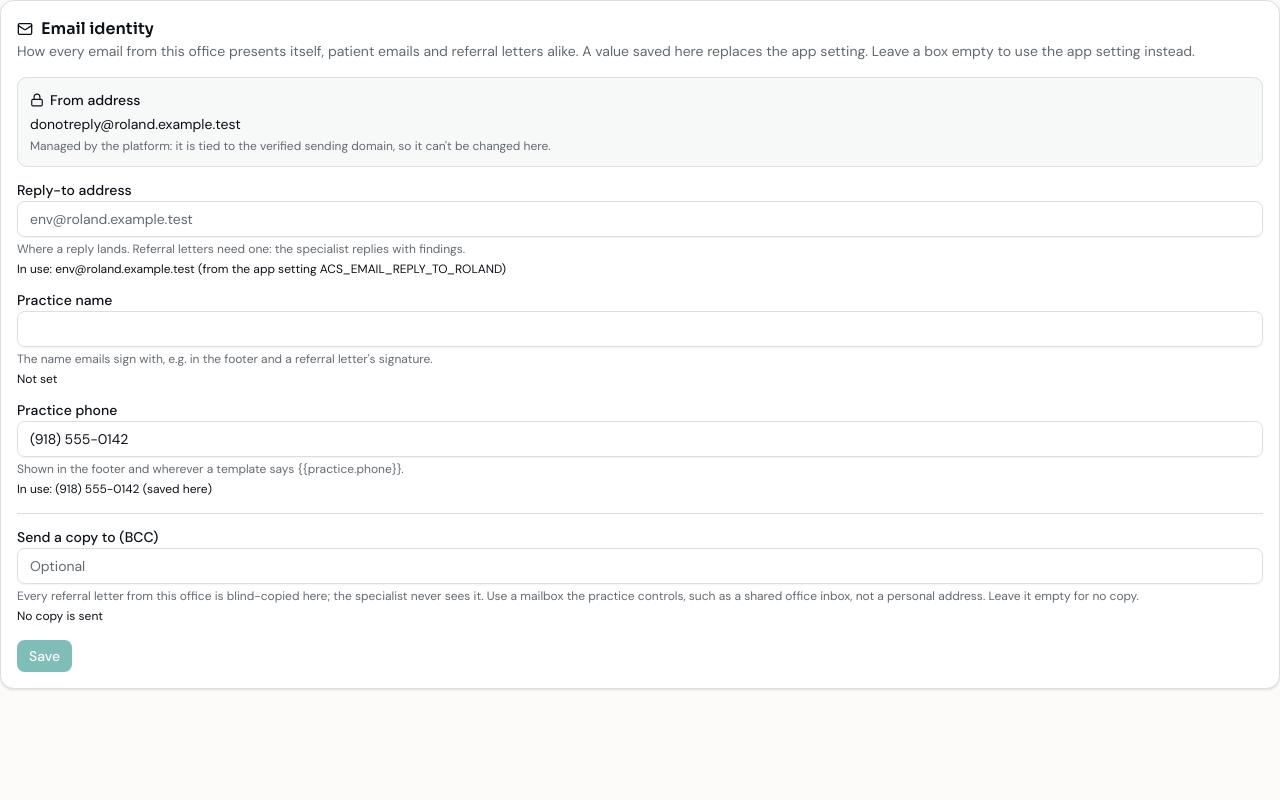
Test case: 3: save sends the whole identity and shows the server's answer › trims, sends an empty box as null, and renders the read-back
The width and height of the screenshot is (1280, 800).
expect the button with test id "tc-email-identity-save" is disabled: met, box [17, 640, 72, 672]
Type "  FrontDesk@Roland.example.test " into the field with test id "tc-email-identity-replyTo" at (640, 219), box [17, 201, 1263, 237]
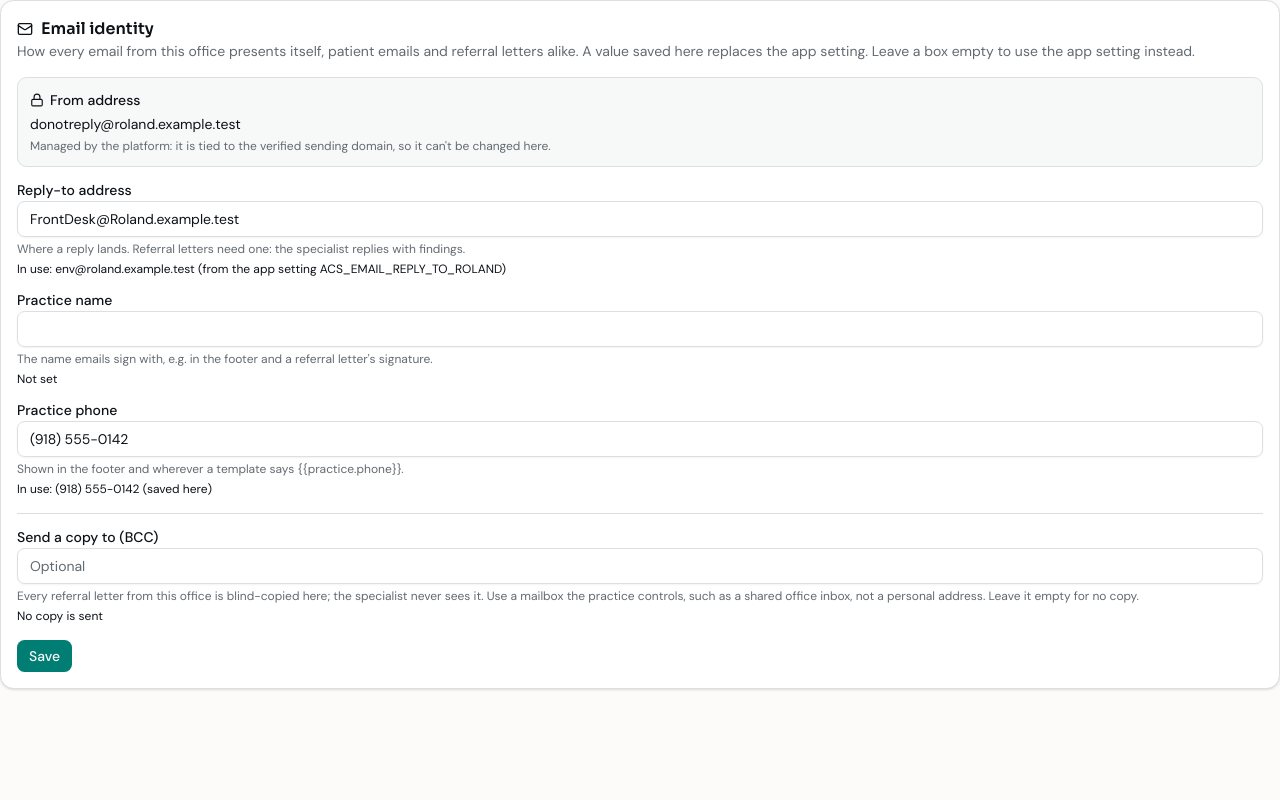
Clear the field with test id "tc-email-identity-practicePhone" at (640, 439), box [17, 421, 1263, 457]
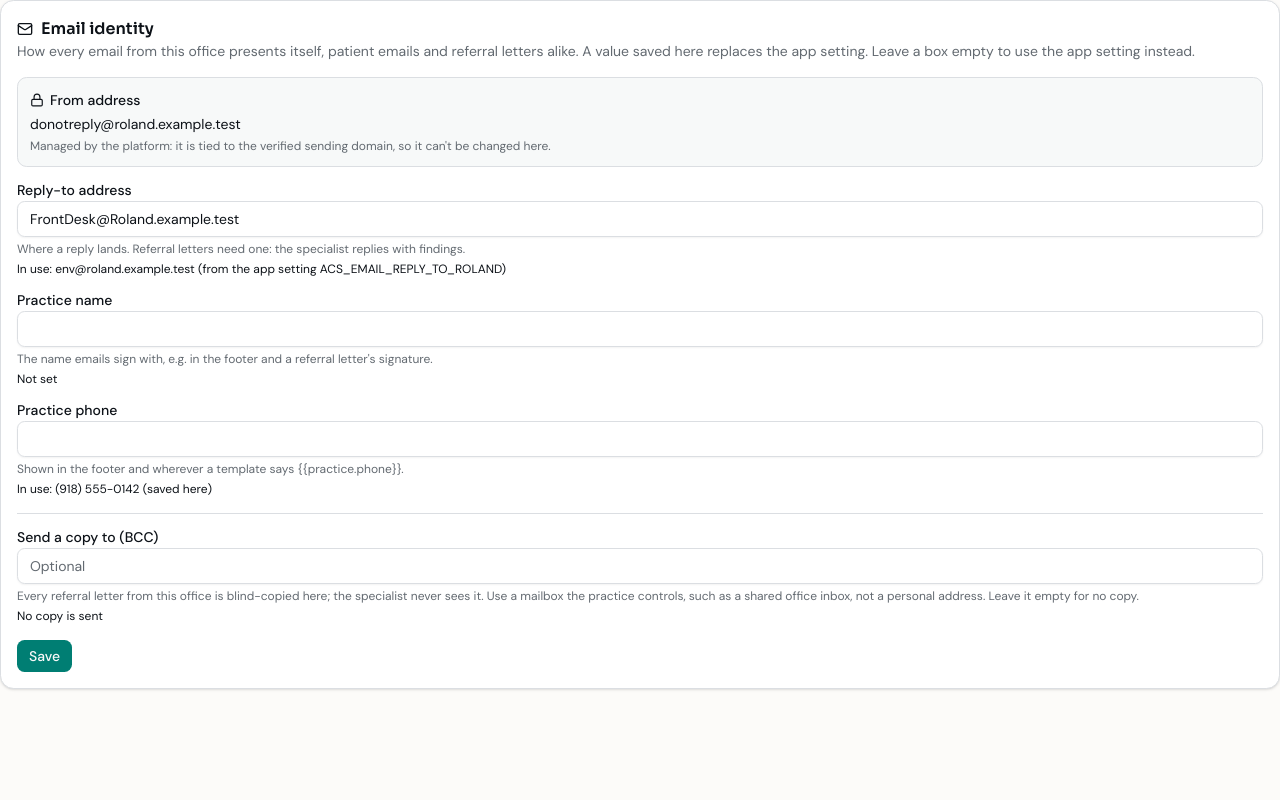
expect the button with test id "tc-email-identity-save" is enabled: met
Click the button with test id "tc-email-identity-save" at (45, 656), box [17, 640, 72, 672]
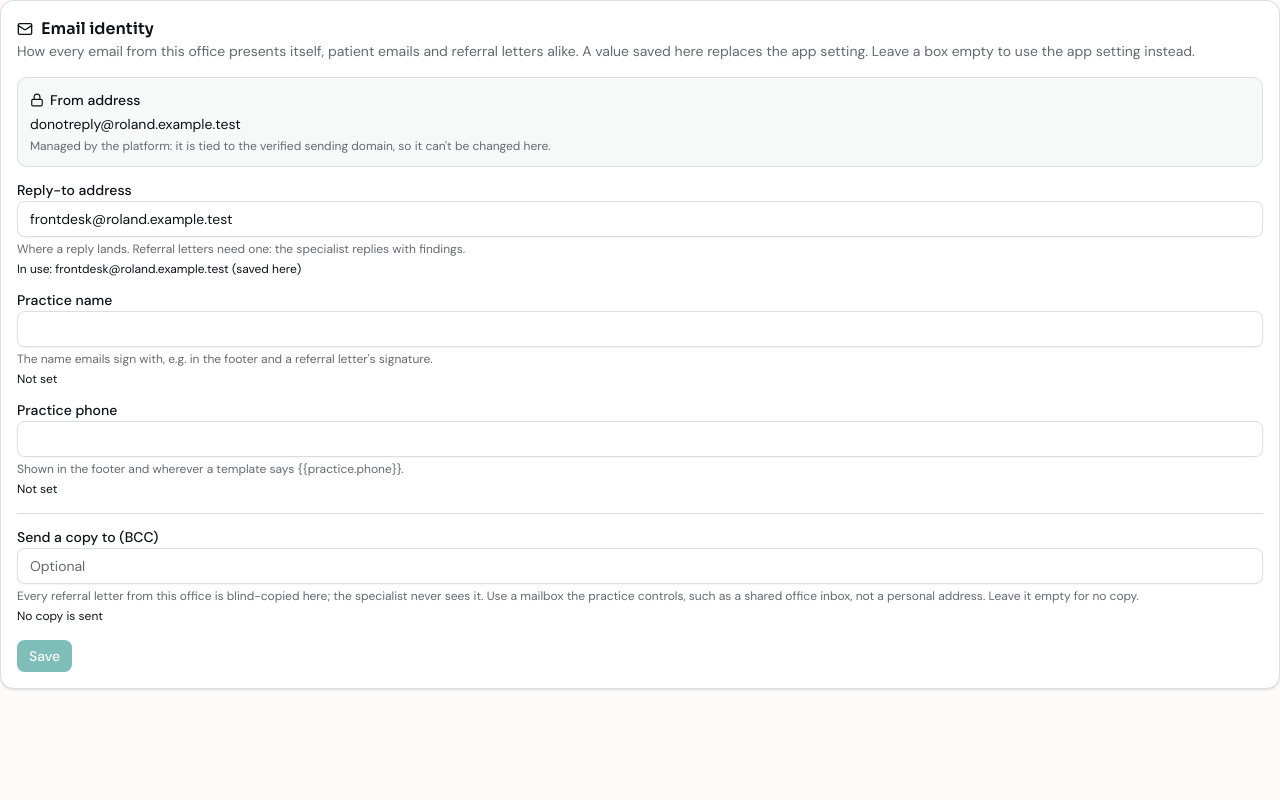
expect the text with test id "tc-email-identity-replyTo-in-use" reads "In use: frontdesk@roland.example.test (saved here)": met, box [17, 261, 301, 277]
expect the text with test id "tc-email-identity-practicePhone-in-use" reads "Not set": met, box [17, 481, 57, 497]
